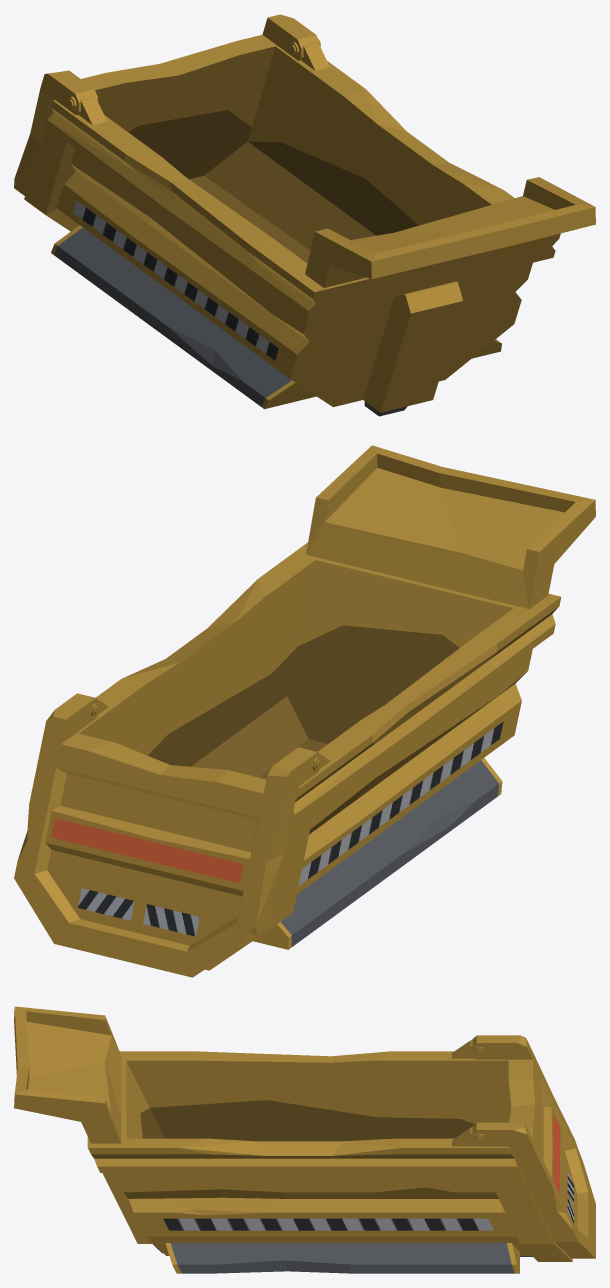
Rendered from SM_Veh_Truck_01_DumpTray_02.glb.
3 views of the same model, one above another, from view 1: azimuth 30°, elevation 25°; view 2: azimuth 150°, elevation 25°; view 3: azimuth 270°, elevation 25° (orthographic). The views are drawn at different scales.
Visible parts, largest first — view 1: SM_Veh_Truck_01_DumpTray_02, SM_Veh_Truck_01_DumpTray_02_Door; view 2: SM_Veh_Truck_01_DumpTray_02, SM_Veh_Truck_01_DumpTray_02_Door; view 3: SM_Veh_Truck_01_DumpTray_02, SM_Veh_Truck_01_DumpTray_02_Door.
Part boxes in pixels (x1,y1,x2,y2): SM_Veh_Truck_01_DumpTray_02: [24, 38, 595, 416]; SM_Veh_Truck_01_DumpTray_02_Door: [14, 14, 319, 195]; SM_Veh_Truck_01_DumpTray_02: [77, 445, 595, 970]; SM_Veh_Truck_01_DumpTray_02_Door: [14, 693, 321, 977]; SM_Veh_Truck_01_DumpTray_02: [14, 1006, 572, 1273]; SM_Veh_Truck_01_DumpTray_02_Door: [471, 1035, 595, 1258].
Bounding box in the file's own units: 2.91 × 2.81 × 7.34.
1 material, 1 textured.
